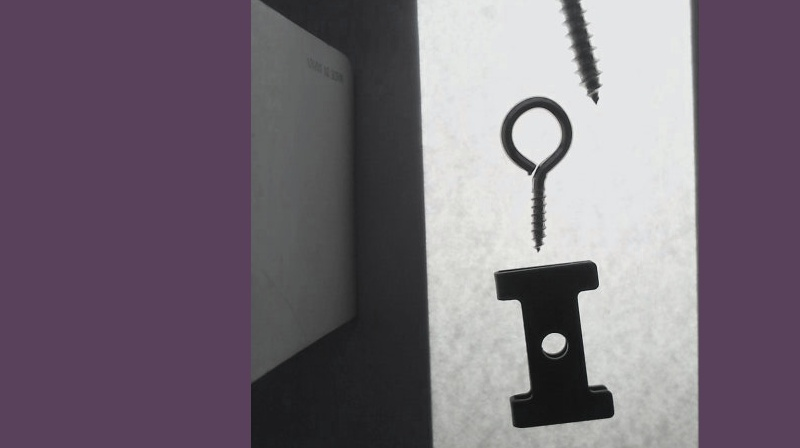O001: (499, 95, 571, 252)
O002: (492, 259, 613, 428)
S001: (523, 0, 600, 102)
